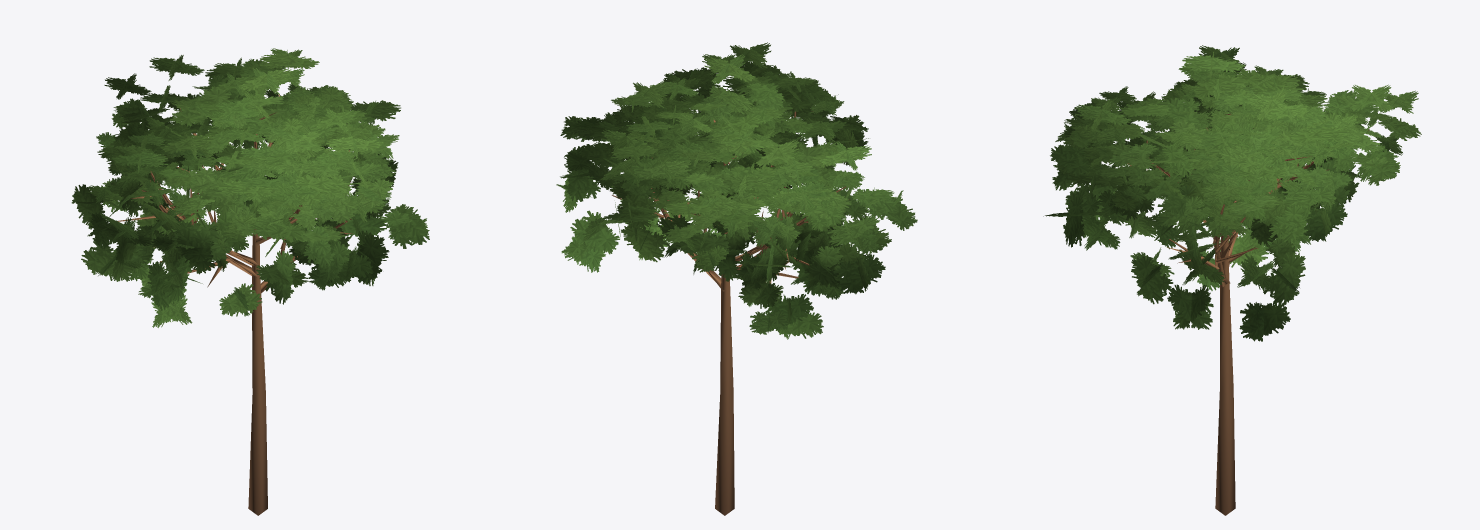
Rendered from pinonero-bajo.glb.
The picture shows the model from 3 angles, left to right: view 1: azimuth 30°, elevation 25°; view 2: azimuth 150°, elevation 25°; view 3: azimuth 270°, elevation 25°; orthographic projection. The views are drawn at different scales.
Visible parts, largest first — view 1: pinonero; view 2: pinonero; view 3: pinonero.
Part boxes in pixels (box(x1,y1,x2,y2)): pinonero: box(71, 48, 429, 515); pinonero: box(556, 42, 917, 515); pinonero: box(1043, 45, 1421, 515).
Size of the model in its own units: 13.62 by 14.71 by 13.39.
Materials: 2 (1 with a texture image).
